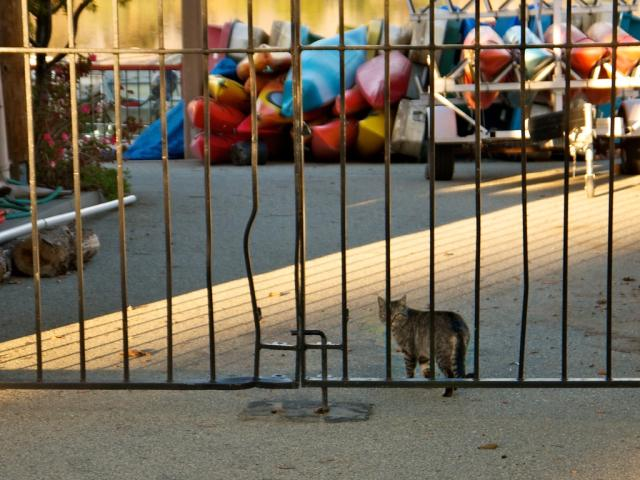Cat: (376, 294, 470, 399)
